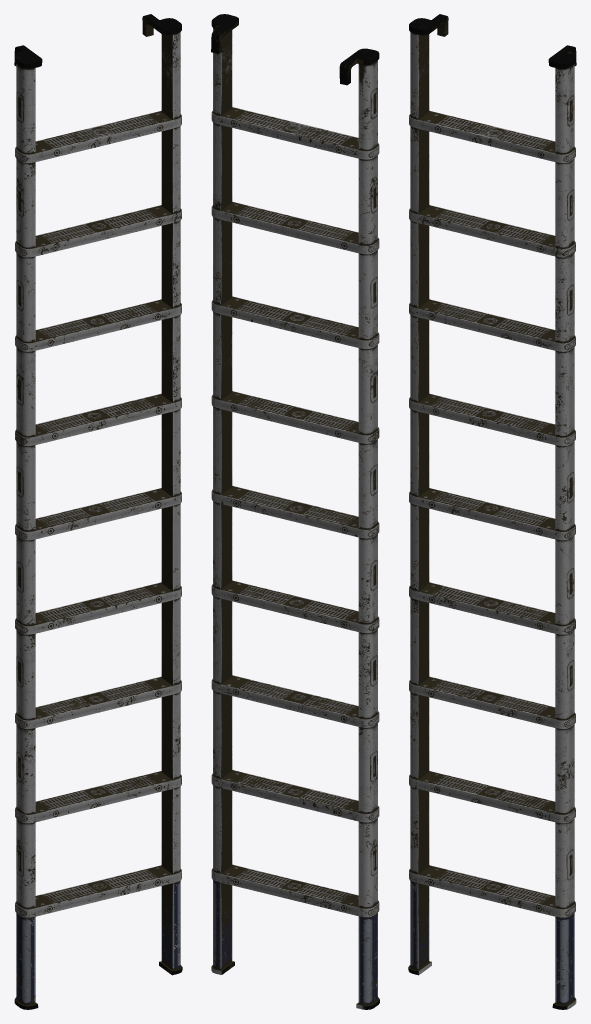
File: ladder_metallic_tool.glb
3 views of the same model, side by side, from view 1: azimuth 30°, elevation 25°; view 2: azimuth 150°, elevation 25°; view 3: azimuth 330°, elevation 25° (orthographic).
Visible parts, largest first — view 1: Object_3; view 2: Object_3; view 3: Object_3.
Boxes of the visible parts, x1,y1,x2,y2 form: Object_3: (14, 14, 182, 1009); Object_3: (211, 14, 379, 1009); Object_3: (408, 14, 576, 1009).
Bounding box in the file's own units: 57.16 × 321 × 14.1.
1 material, 1 textured.
